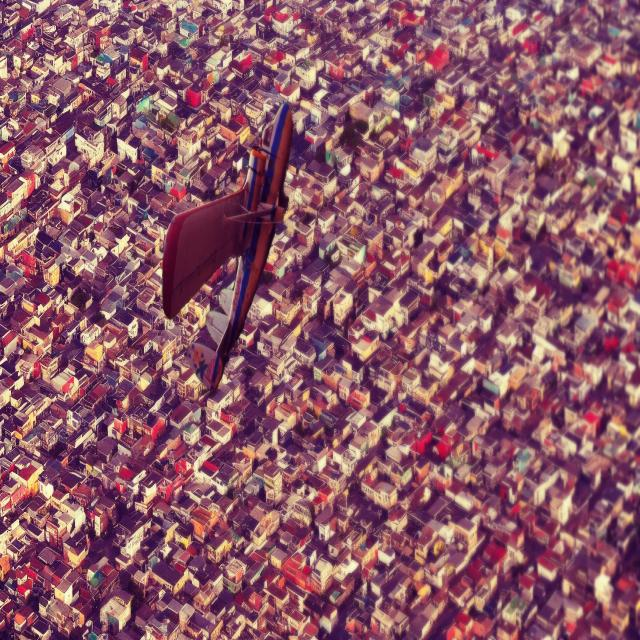airplane: (161, 100, 294, 391)
